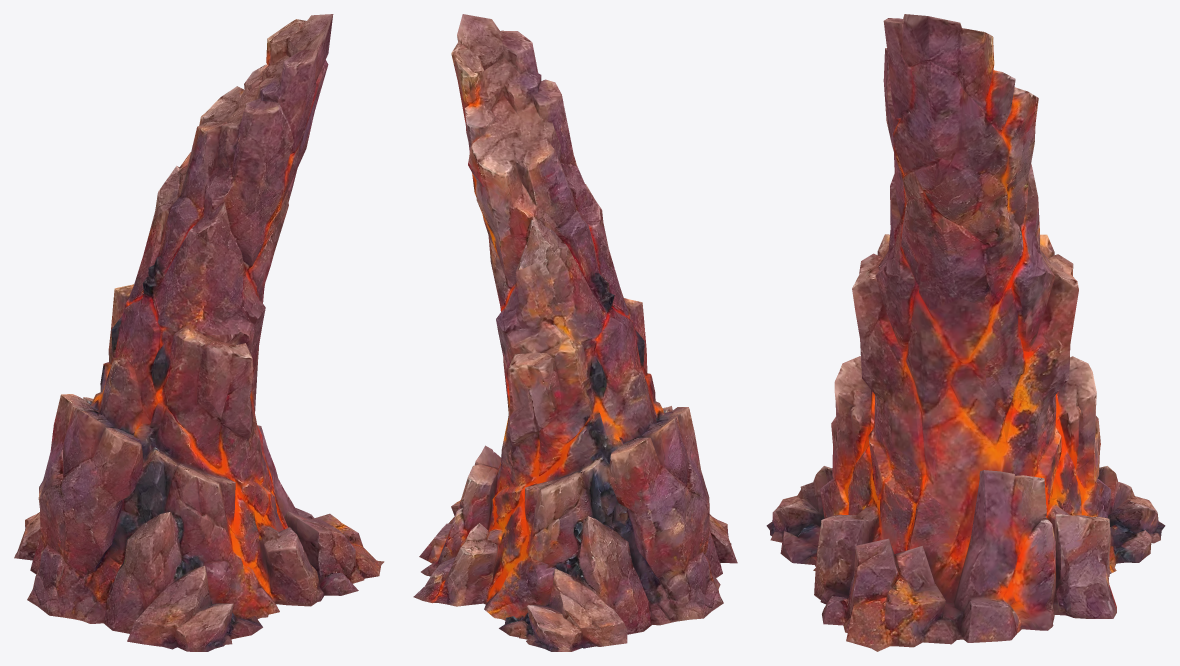
File: prop_obsidian_spire.f9473853.glb
3 renders of one model, left to right at view 1: azimuth 30°, elevation 25°; view 2: azimuth 150°, elevation 25°; view 3: azimuth 270°, elevation 25°, orthographic. The views are drawn at different scales.
Parts seen in each view (by area): view 1: tripo_node_f538a312-d00c-41f6-8c6c-d66d1be53e70; view 2: tripo_node_f538a312-d00c-41f6-8c6c-d66d1be53e70; view 3: tripo_node_f538a312-d00c-41f6-8c6c-d66d1be53e70.
Part boxes in pixels (<box>): tripo_node_f538a312-d00c-41f6-8c6c-d66d1be53e70: <box>14,14,384,651</box>; tripo_node_f538a312-d00c-41f6-8c6c-d66d1be53e70: <box>413,14,737,651</box>; tripo_node_f538a312-d00c-41f6-8c6c-d66d1be53e70: <box>766,14,1165,651</box>.
Size of the model in its own units: 5.96 by 9.98 by 5.82.
1 material, 1 textured.
